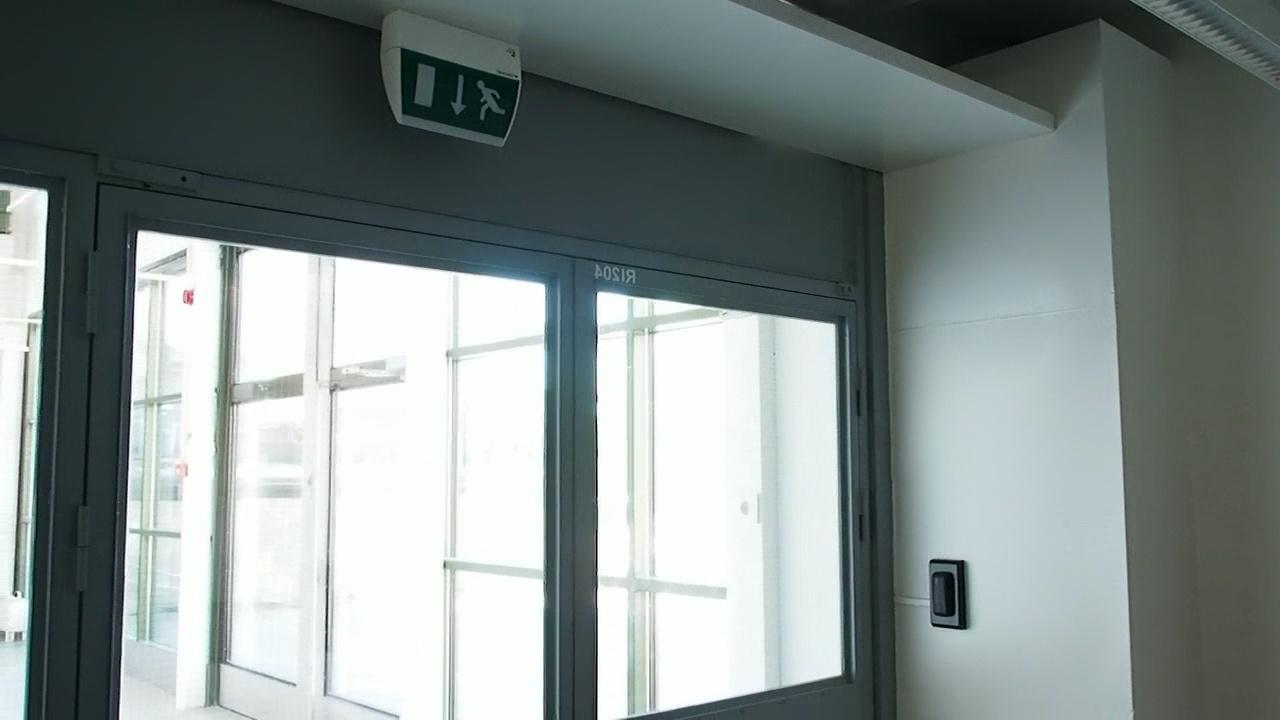exit: (392, 53, 529, 141)
trashbin: (932, 556, 975, 636)
